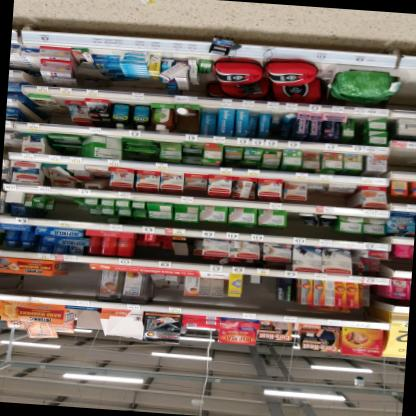empty_space: (102, 307, 144, 338), (64, 260, 98, 295), (72, 304, 101, 334), (259, 273, 278, 306), (393, 146, 416, 171)
